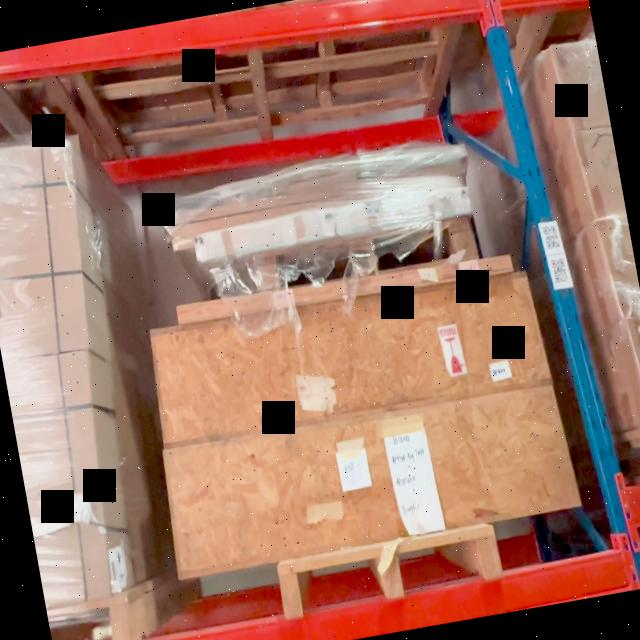box: (165, 382, 572, 568), (152, 271, 548, 444)
